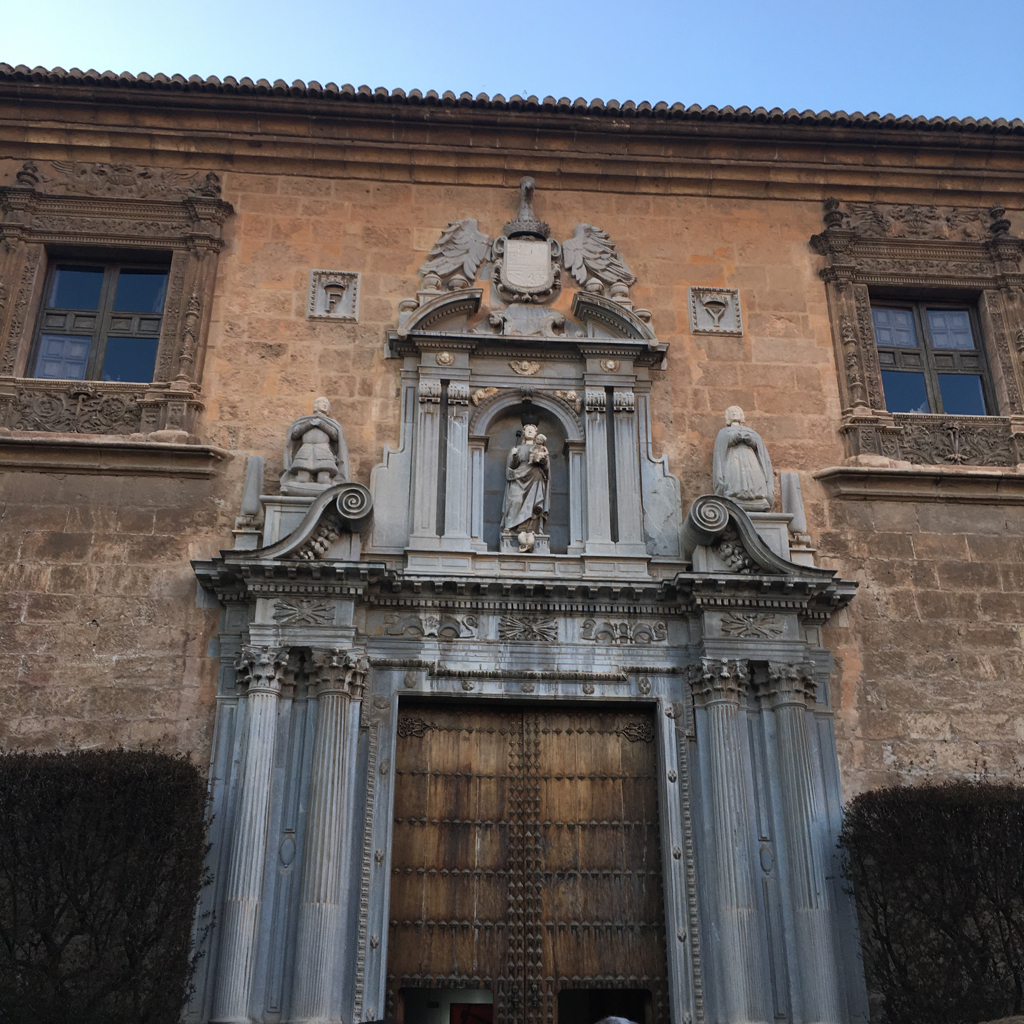arco-medio-punto: (471, 390, 578, 456)
fronton-partido: (220, 486, 827, 595), (394, 290, 652, 352)
vano-adintelado: (368, 657, 681, 1024), (2, 221, 212, 389), (832, 256, 1015, 425)
